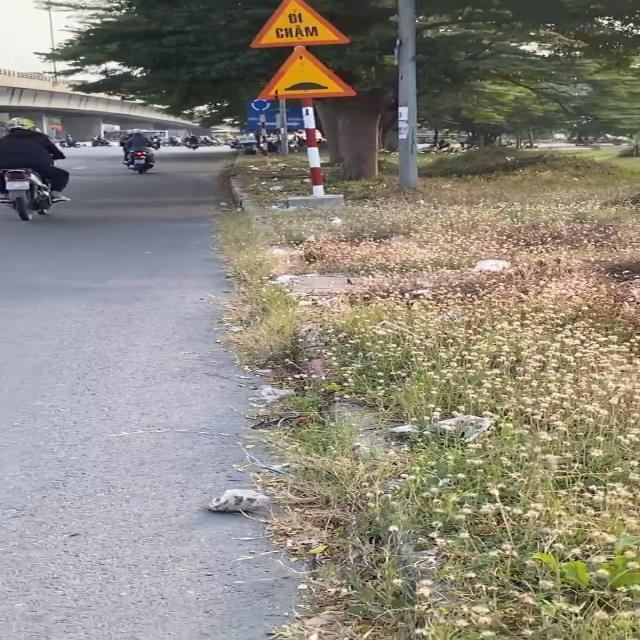221-duong-go-ghe: (254, 47, 354, 101)
245-di-cham: (248, 0, 352, 48)
303-noi-giao-nhau-chay-theo-vong-xuyen: (249, 97, 271, 111)
